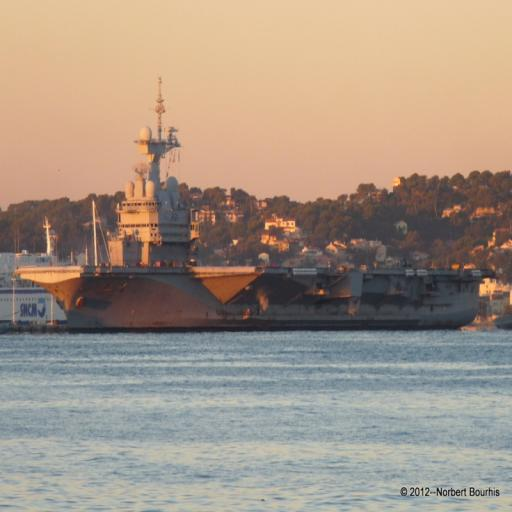Portanaves: (10, 73, 503, 336)
